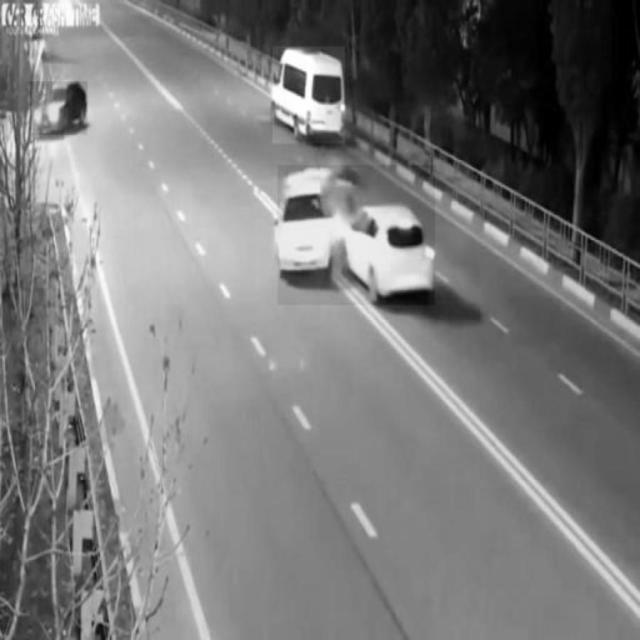accident: (278, 164, 435, 305)
vehicle: (272, 47, 345, 145), (30, 81, 88, 135)
